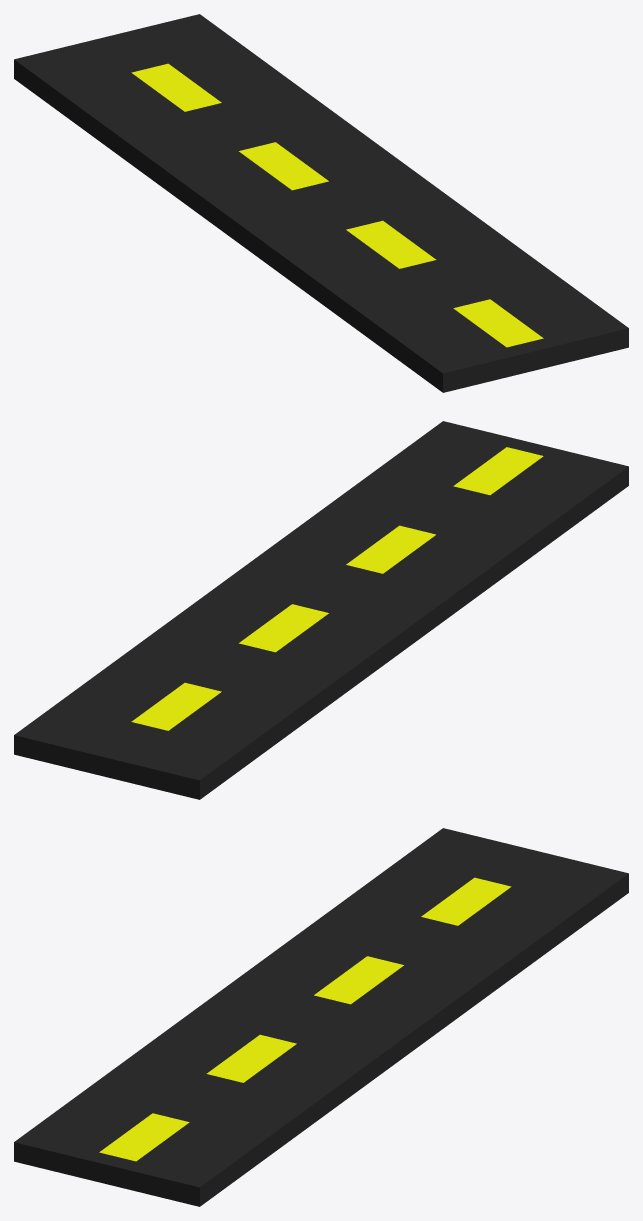
The model's file is Road.obj.
The picture shows the model from 3 angles, top to bottom: view 1: azimuth 30°, elevation 25°; view 2: azimuth 150°, elevation 25°; view 3: azimuth 330°, elevation 25°; orthographic projection.
Size of the model in its own units: 1 by 0.1 by 4.
Materials: 1 (1 with a texture image).
